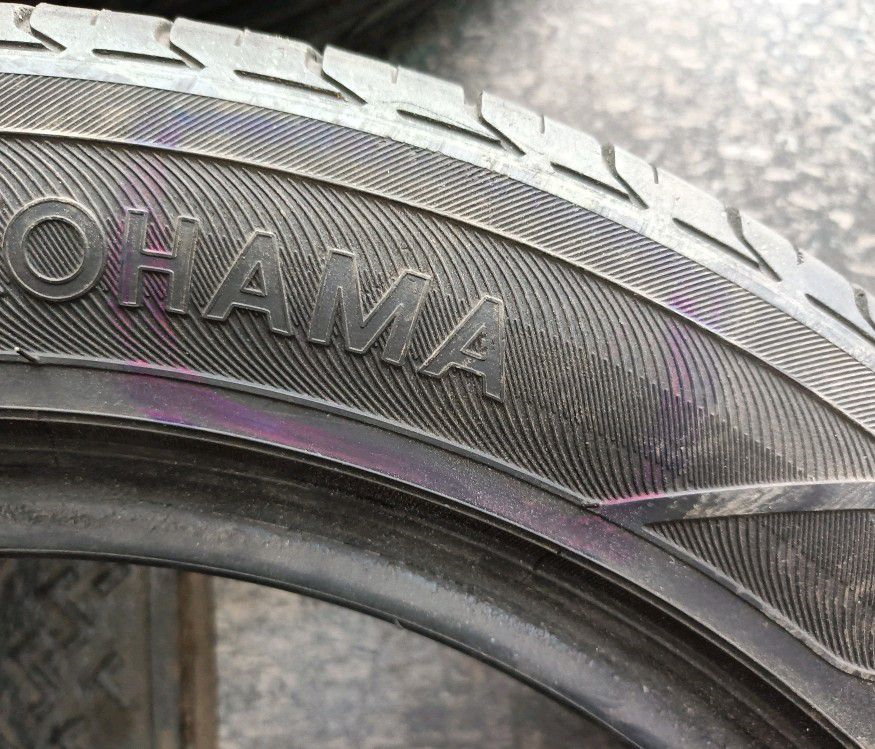CBU: (208, 189, 628, 406)
